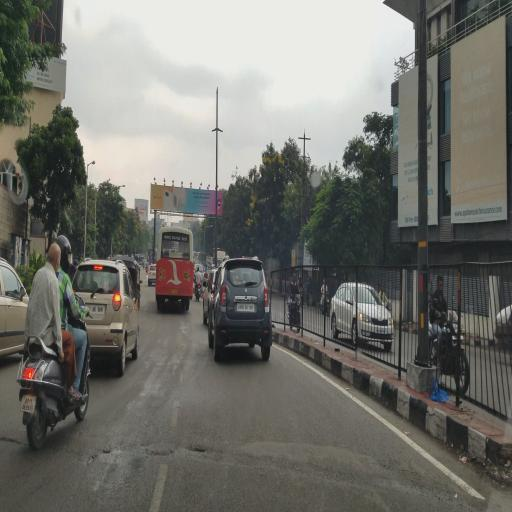street_light_0: (110, 176, 133, 202), (84, 150, 100, 175)
